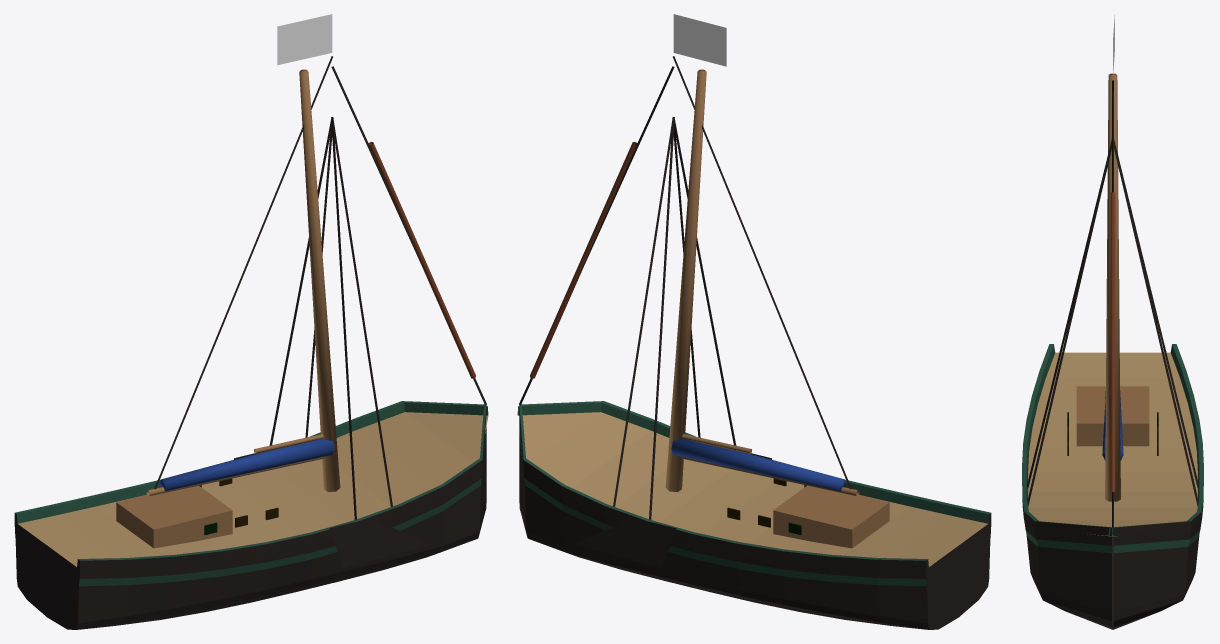
Rendered from hull_botter_medium_docked.glb.
3 views of the same model, side by side, from view 1: azimuth 30°, elevation 25°; view 2: azimuth 150°, elevation 25°; view 3: azimuth 270°, elevation 25° (orthographic). The views are drawn at different scales.
Visible parts, largest first — view 1: hull_botter_medium_docked_hull, hull_botter_medium_docked_mast, hull_botter_medium_docked_rigging, hull_botter_medium_docked_deck, hull_botter_medium_docked_sail_cover_fore, hull_botter_medium_docked_leeboard-1, hull_botter_medium_docked_flag, hull_botter_medium_docked_sail_furled; view 2: hull_botter_medium_docked_hull, hull_botter_medium_docked_mast, hull_botter_medium_docked_rigging, hull_botter_medium_docked_deck, hull_botter_medium_docked_sail_cover_fore, hull_botter_medium_docked_leeboard1, hull_botter_medium_docked_flag, hull_botter_medium_docked_sail_furled; view 3: hull_botter_medium_docked_hull, hull_botter_medium_docked_mast, hull_botter_medium_docked_rigging, hull_botter_medium_docked_deck, hull_botter_medium_docked_sail_furled, hull_botter_medium_docked_sail_cover_fore.
Part boxes in pixels (box(x1,y1,x2,y2)): hull_botter_medium_docked_hull: box(14, 401, 488, 629); hull_botter_medium_docked_mast: box(254, 69, 340, 492); hull_botter_medium_docked_rigging: box(154, 56, 486, 519); hull_botter_medium_docked_deck: box(116, 485, 232, 548); hull_botter_medium_docked_sail_cover_fore: box(160, 438, 334, 491); hull_botter_medium_docked_leeboard-1: box(329, 518, 432, 567); hull_botter_medium_docked_flag: box(277, 14, 332, 65); hull_botter_medium_docked_sail_furled: box(368, 142, 475, 378); hull_botter_medium_docked_hull: box(517, 401, 991, 629); hull_botter_medium_docked_mast: box(665, 69, 751, 492); hull_botter_medium_docked_rigging: box(519, 56, 851, 519); hull_botter_medium_docked_deck: box(773, 485, 889, 548); hull_botter_medium_docked_sail_cover_fore: box(671, 438, 845, 491); hull_botter_medium_docked_leeboard1: box(573, 518, 676, 567); hull_botter_medium_docked_flag: box(673, 14, 726, 66); hull_botter_medium_docked_sail_furled: box(530, 142, 637, 378); hull_botter_medium_docked_hull: box(1022, 344, 1203, 629); hull_botter_medium_docked_mast: box(1105, 73, 1120, 501); hull_botter_medium_docked_rigging: box(1027, 80, 1198, 527); hull_botter_medium_docked_deck: box(1076, 386, 1149, 446); hull_botter_medium_docked_sail_furled: box(1110, 192, 1115, 491); hull_botter_medium_docked_sail_cover_fore: box(1102, 391, 1123, 460).
Size of the model in its own units: 13.03 by 15.51 by 4.91.
